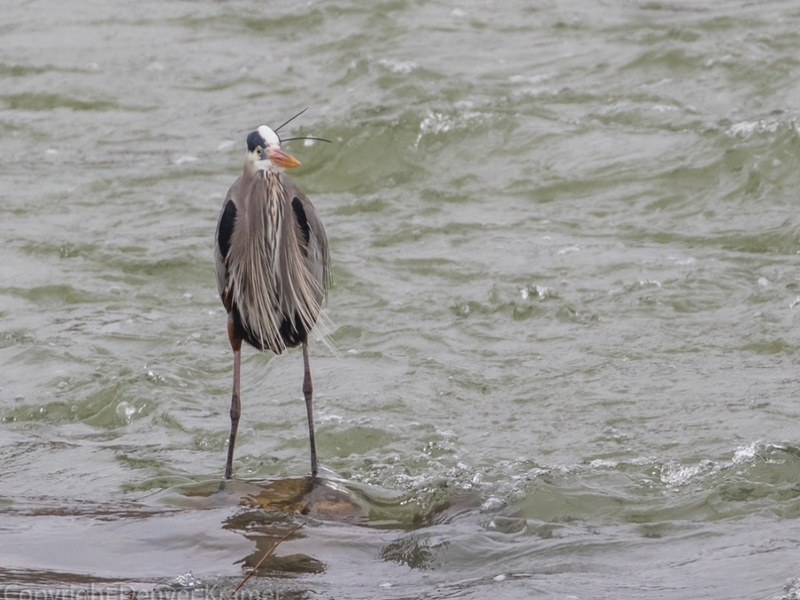heron: (210, 113, 338, 492)
